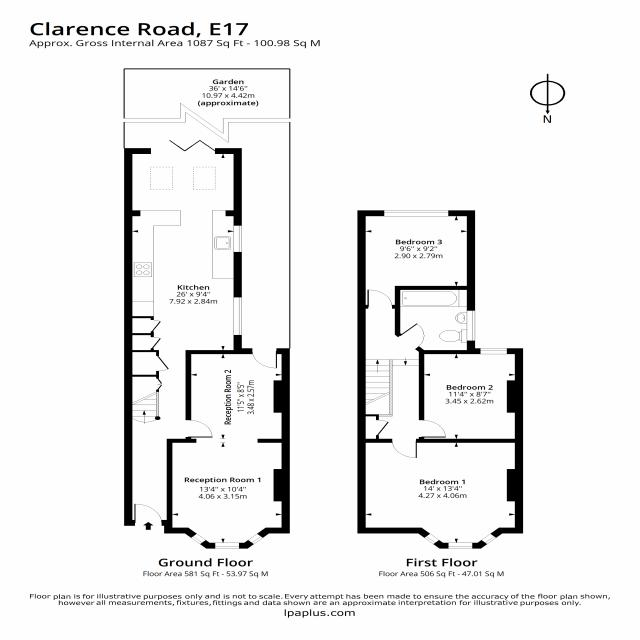DOOR: (397, 322, 426, 350), (133, 502, 163, 527), (251, 348, 280, 369), (391, 438, 418, 459), (185, 419, 214, 438), (418, 419, 447, 438), (367, 289, 394, 309)
FOLDING DOOR: (148, 138, 218, 155)
ROOM: (123, 139, 242, 526), (164, 348, 290, 549), (357, 439, 524, 549), (357, 210, 476, 309), (418, 348, 524, 443)
WINDOW: (384, 210, 450, 217), (233, 297, 243, 336), (466, 310, 476, 341), (233, 225, 243, 253), (190, 533, 207, 545), (247, 533, 264, 545), (423, 533, 440, 545), (480, 533, 497, 545), (480, 348, 508, 355), (214, 542, 240, 549), (448, 542, 473, 549)
